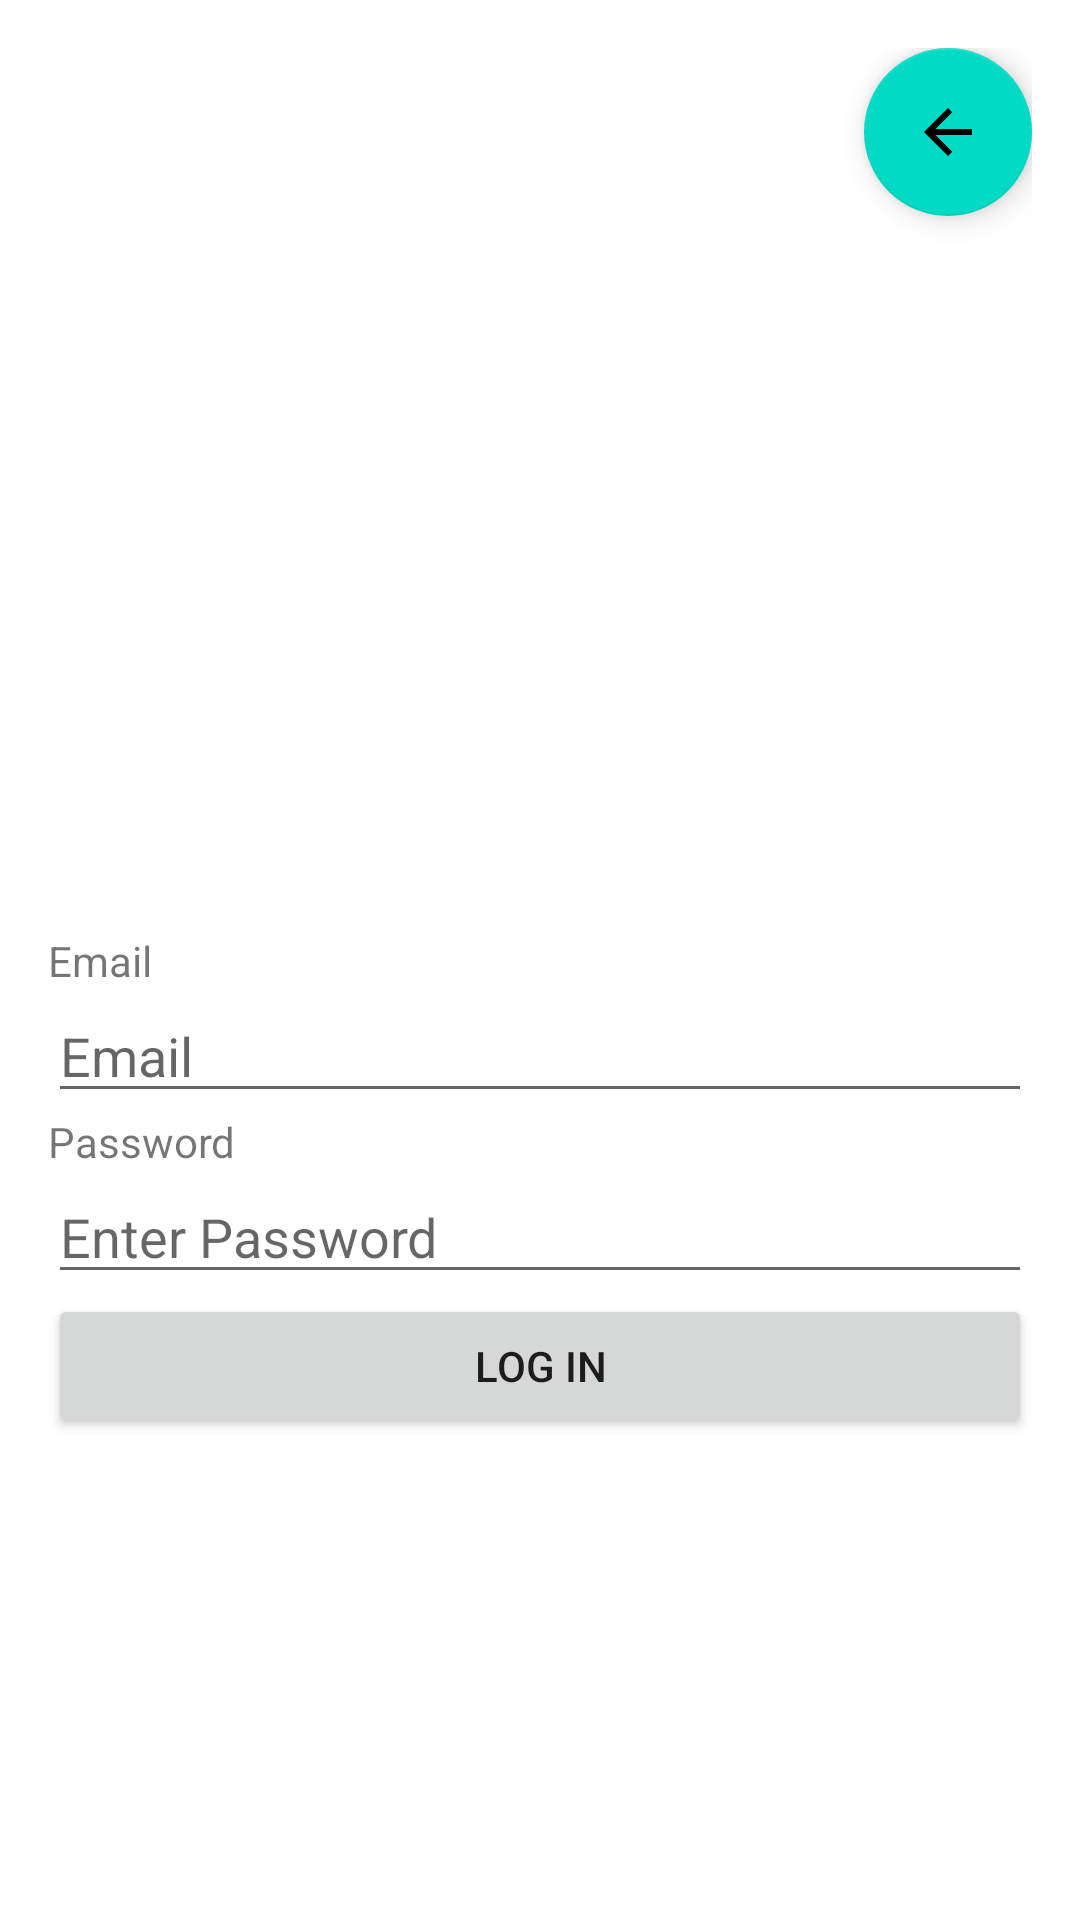

Point at icon controls on the screen. Image size 1080x1920, points as (x=x, y=y).
back: (x=948, y=132)
